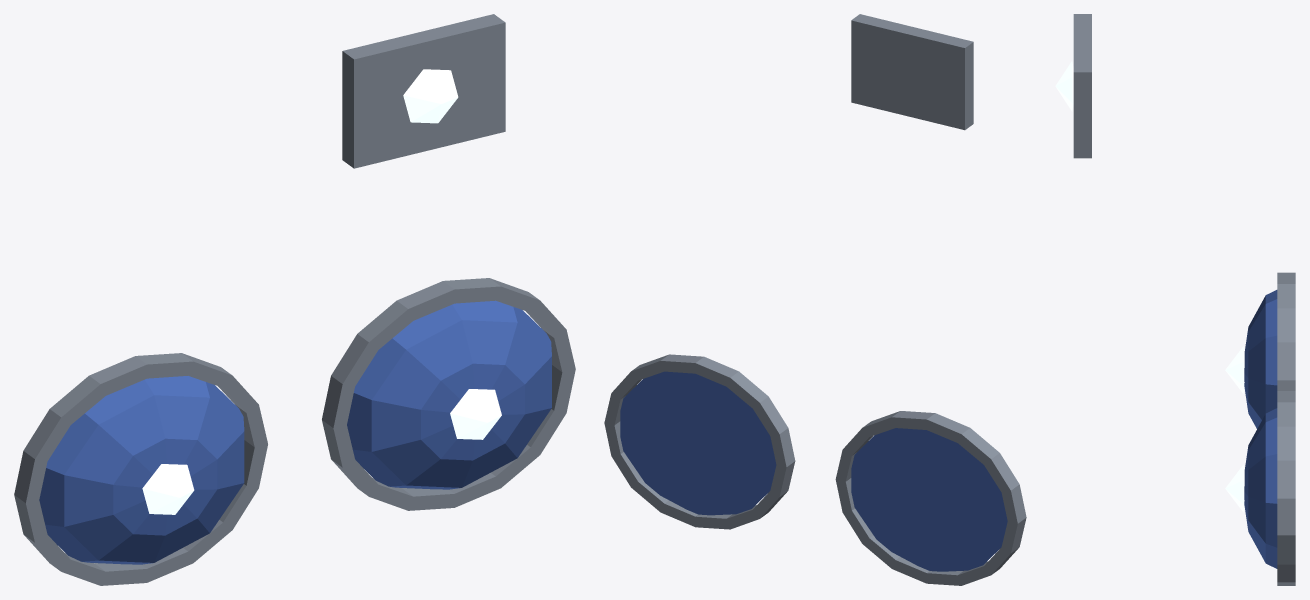
File: armor_guard_legs_rare_human.glb
3 renders of one model, left to right at view 1: azimuth 30°, elevation 25°; view 2: azimuth 150°, elevation 25°; view 3: azimuth 270°, elevation 25°, orthographic. The views are drawn at different scales.
Visible parts, largest first — view 1: armor_guard_legs_rare_human__calf_l, armor_guard_legs_rare_human__calf_r, armor_guard_legs_rare_human__pelvis; view 2: armor_guard_legs_rare_human__calf_l, armor_guard_legs_rare_human__calf_r, armor_guard_legs_rare_human__pelvis; view 3: armor_guard_legs_rare_human__calf_l, armor_guard_legs_rare_human__calf_r, armor_guard_legs_rare_human__pelvis.
Part boxes in pixels (x1=…): armor_guard_legs_rare_human__calf_l: x1=322, y1=278, x2=575, y2=510; armor_guard_legs_rare_human__calf_r: x1=14, y1=353, x2=267, y2=585; armor_guard_legs_rare_human__pelvis: x1=342, y1=14, x2=505, y2=168; armor_guard_legs_rare_human__calf_l: x1=604, y1=354, x2=795, y2=529; armor_guard_legs_rare_human__calf_r: x1=835, y1=411, x2=1026, y2=585; armor_guard_legs_rare_human__pelvis: x1=851, y1=14, x2=973, y2=130; armor_guard_legs_rare_human__calf_l: x1=1225, y1=391, x2=1295, y2=585; armor_guard_legs_rare_human__calf_r: x1=1225, y1=272, x2=1295, y2=428; armor_guard_legs_rare_human__pelvis: x1=1055, y1=14, x2=1091, y2=158.
Size of the model in its own units: 32.67 by 34 by 15.68.
